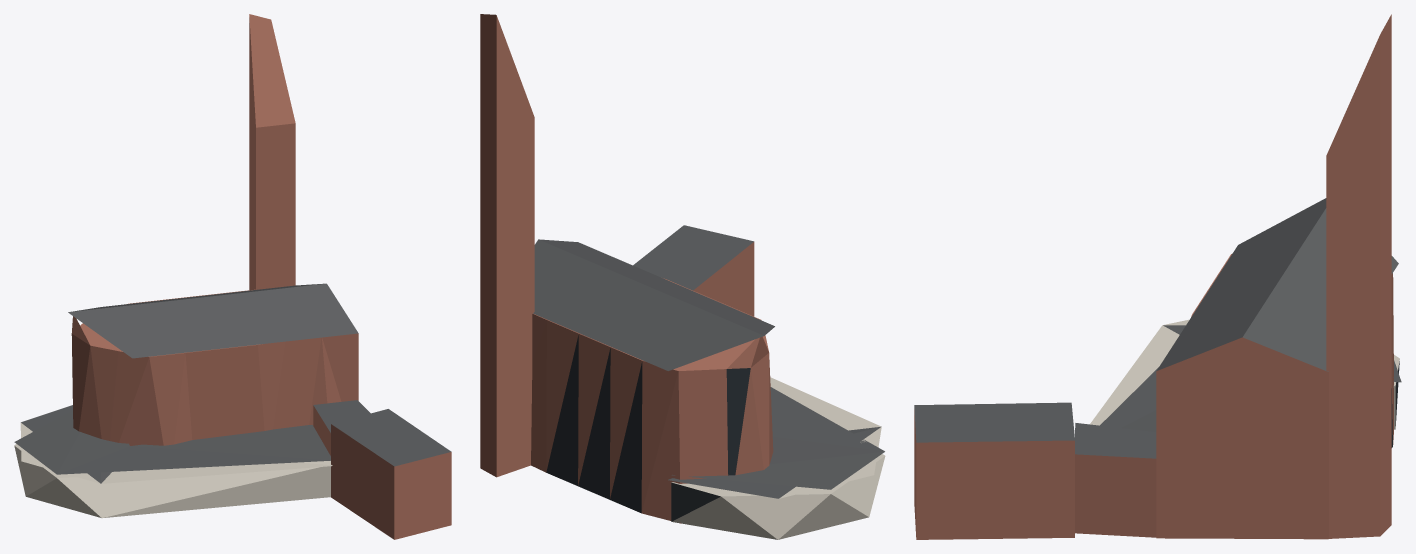
File: opstandingskerk.lod2.glb
The picture shows the model from 3 angles, left to right: view 1: azimuth 30°, elevation 25°; view 2: azimuth 150°, elevation 25°; view 3: azimuth 270°, elevation 25°; orthographic projection. The views are drawn at different scales.
Parts seen in each view (by area): view 1: lod2; view 2: lod2; view 3: lod2.
Part boxes in pixels (x1=…): lod2: x1=14, y1=14, x2=451, y2=539; lod2: x1=480, y1=14, x2=885, y2=539; lod2: x1=914, y1=14, x2=1401, y2=539.
Bounding box in the file's own units: 35.66 × 44.64 × 38.59.
